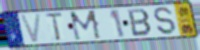1: (109, 9, 126, 40)
B: (127, 8, 154, 38)
M: (68, 9, 103, 43)
S: (153, 6, 178, 36)
T: (43, 11, 65, 42)
V: (18, 13, 43, 45)
